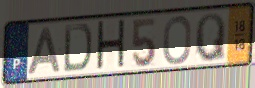5: (131, 16, 158, 69)
A: (26, 25, 62, 77)
D: (62, 22, 94, 74)
H: (95, 17, 127, 74)
O: (161, 14, 193, 67)
Q: (194, 11, 227, 63)
